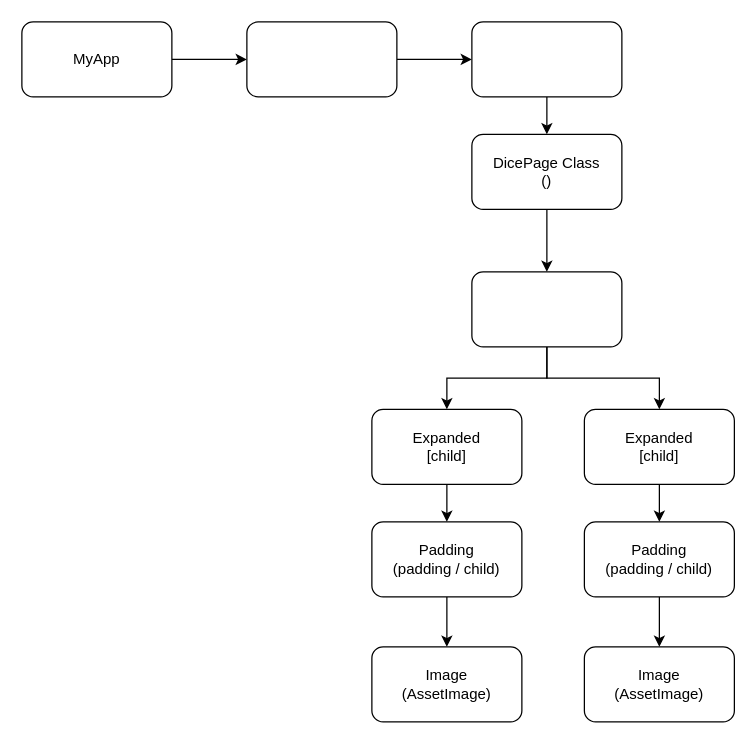
This 756x744 diagram has some shape labels left out. Here are the shapes that lost their labels. From the top down, the centre of each, then its label:
point (321, 59): MaterialApp (home)
point (546, 59): Scaffold (body / appBar)
point (546, 309): Row [children]
